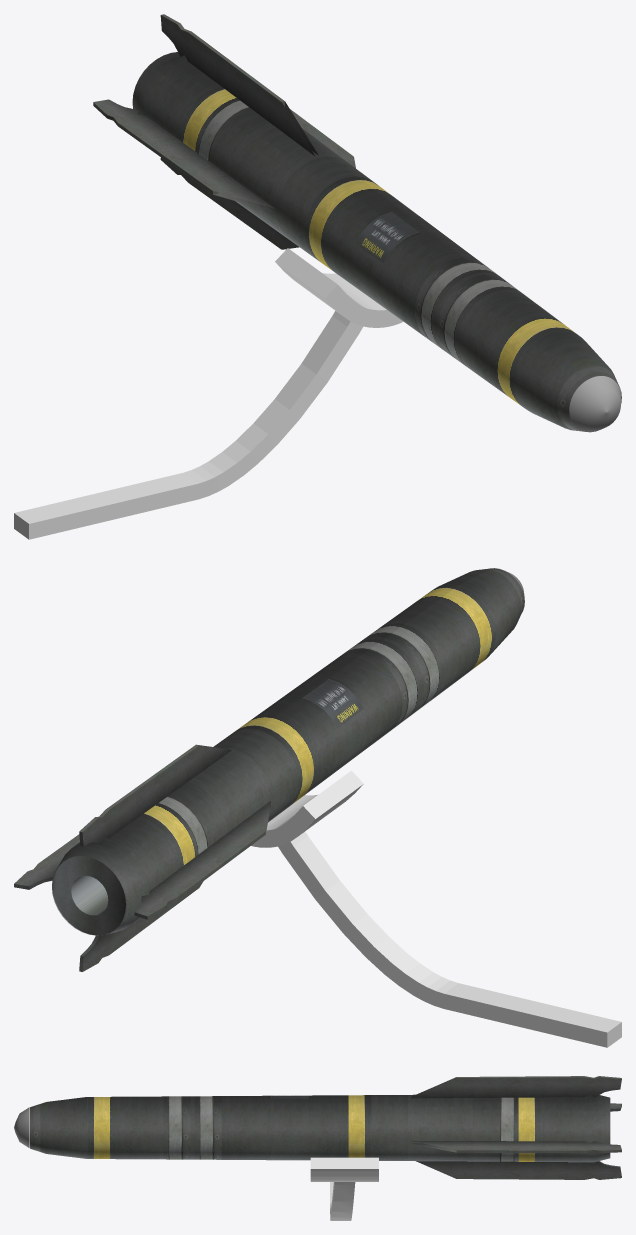
Rendered from AGM-114HellFire.fbx.
3 renders of one model, top to bottom at view 1: azimuth 30°, elevation 25°; view 2: azimuth 150°, elevation 25°; view 3: azimuth 270°, elevation 25°, orthographic. The views are drawn at different scales.
Parts seen in each view (by area): view 1: Cylinder_005_1, Extrude_2; view 2: Cylinder_005_1, Extrude_2; view 3: Cylinder_005_1, Extrude_2.
Boxes of the visible parts, left/top/right/bottom form: Cylinder_005_1: left=93, top=14, right=621, bottom=432; Extrude_2: left=14, top=248, right=403, bottom=539; Cylinder_005_1: left=14, top=568, right=524, bottom=971; Extrude_2: left=251, top=770, right=621, bottom=1047; Cylinder_005_1: left=14, top=1076, right=621, bottom=1179; Extrude_2: left=310, top=1157, right=378, bottom=1220.
Size of the model in its own units: 4.83 by 3.17 by 8.88.
